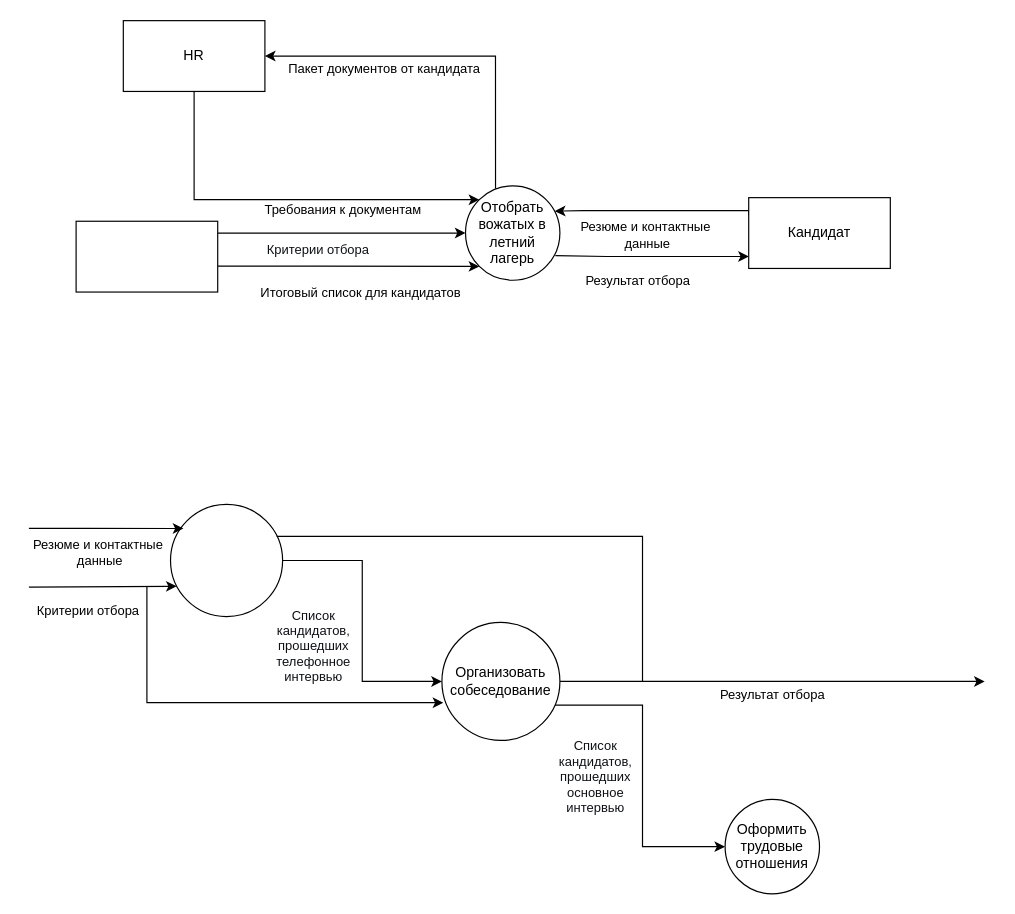
Image size: 1015x914. Some labels were removed from this diagram. The centre of each missing label's shape, as x and y in pixels:
"Директор" goes at [146,256].
"Провести первичный отбор резюме" goes at [226,560].
